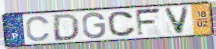C: (107, 10, 138, 38), (25, 15, 52, 43)
D: (52, 13, 81, 42)
F: (135, 7, 164, 38)
G: (81, 11, 108, 40)
V: (162, 6, 191, 36)
